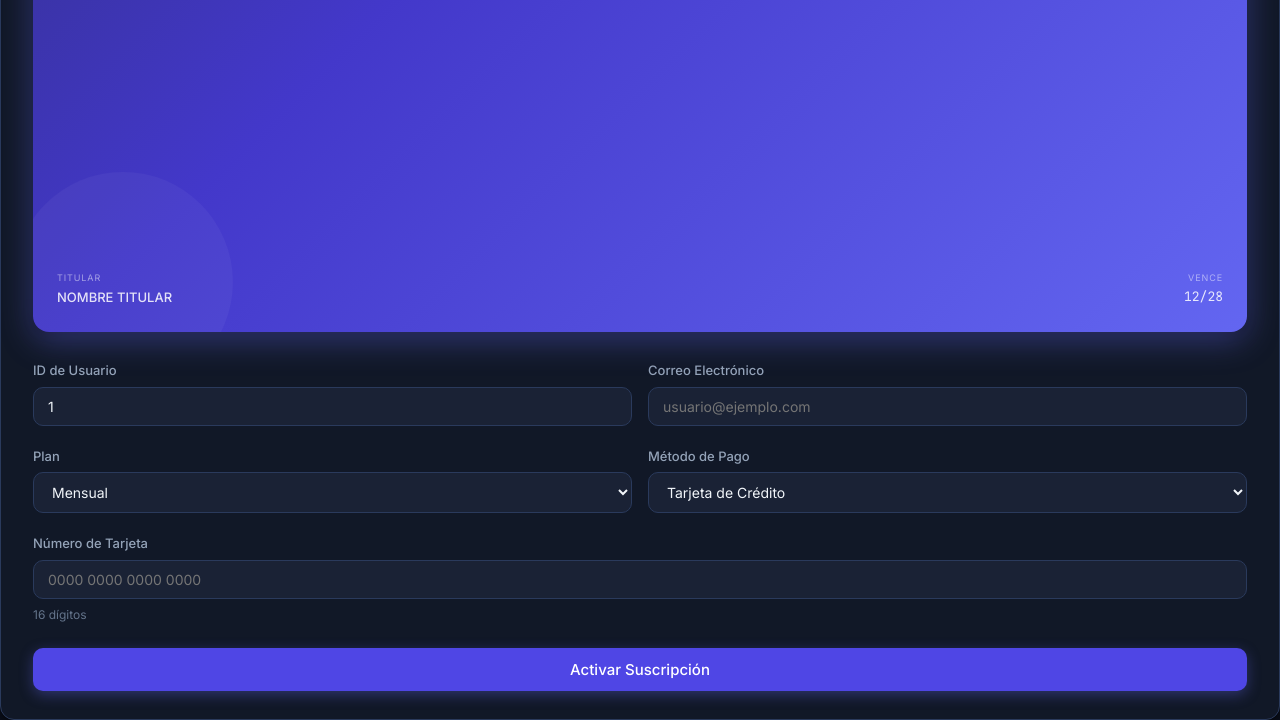
Scenario: SubscriptionForm › formats card number with spaces as user types
The width and height of the screenshot is (1280, 720).
(page scrolled)
Type "4111111111111111" into the field labelled "Número de Tarjeta" at (640, 580), box [33,560,1247,599]
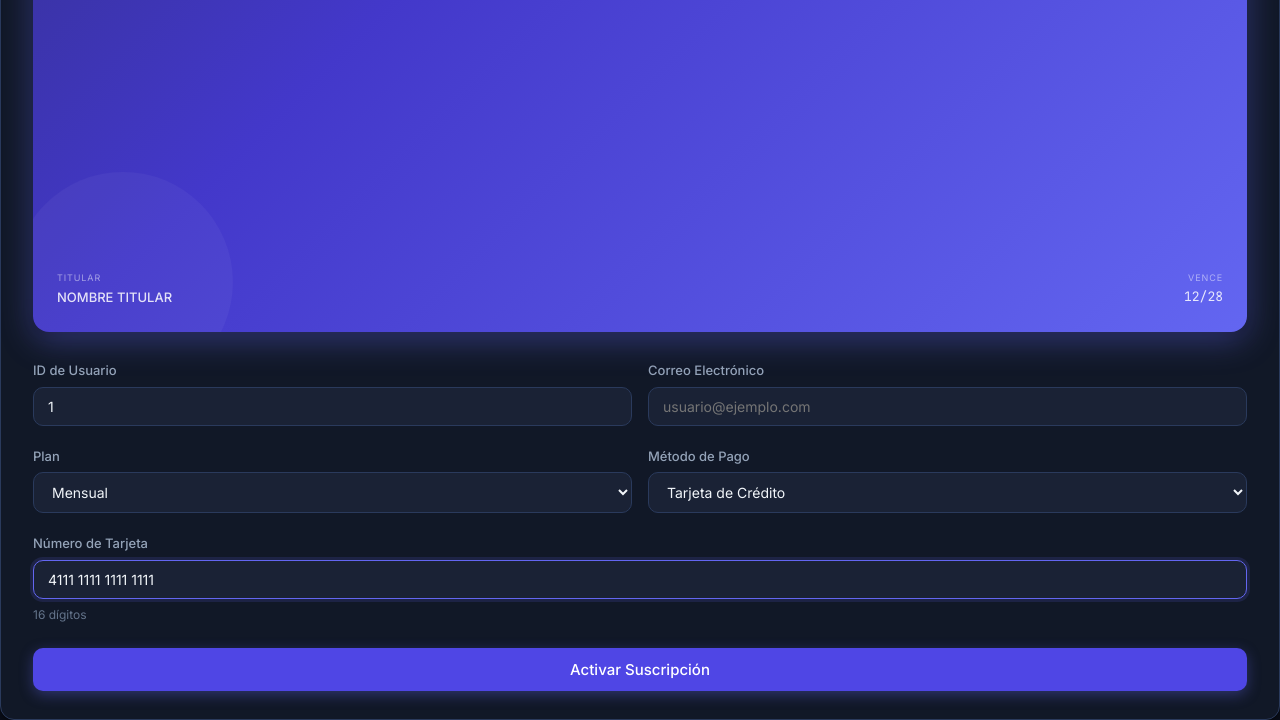
Result: the field labelled "Número de Tarjeta" holds "4111 1111 1111 1111" at [33,560,1247,599]
